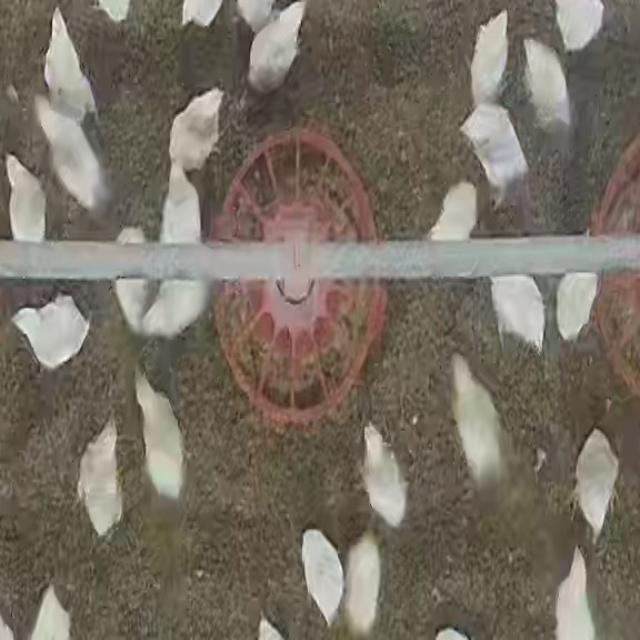chicken: (34, 92, 114, 220), (128, 372, 196, 503), (449, 352, 507, 498), (460, 104, 528, 209), (10, 292, 91, 371), (44, 7, 98, 121), (572, 426, 620, 546), (362, 420, 413, 532), (245, 3, 306, 96), (78, 420, 124, 540), (165, 84, 227, 172), (520, 35, 572, 136), (339, 532, 383, 637), (550, 550, 602, 637), (488, 275, 546, 352), (300, 528, 344, 628), (469, 9, 510, 108), (5, 153, 48, 241), (554, 269, 600, 343), (427, 182, 479, 242)
